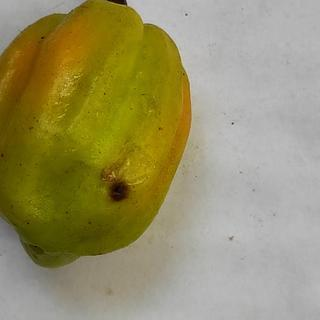Defect: (95, 170, 137, 208)
